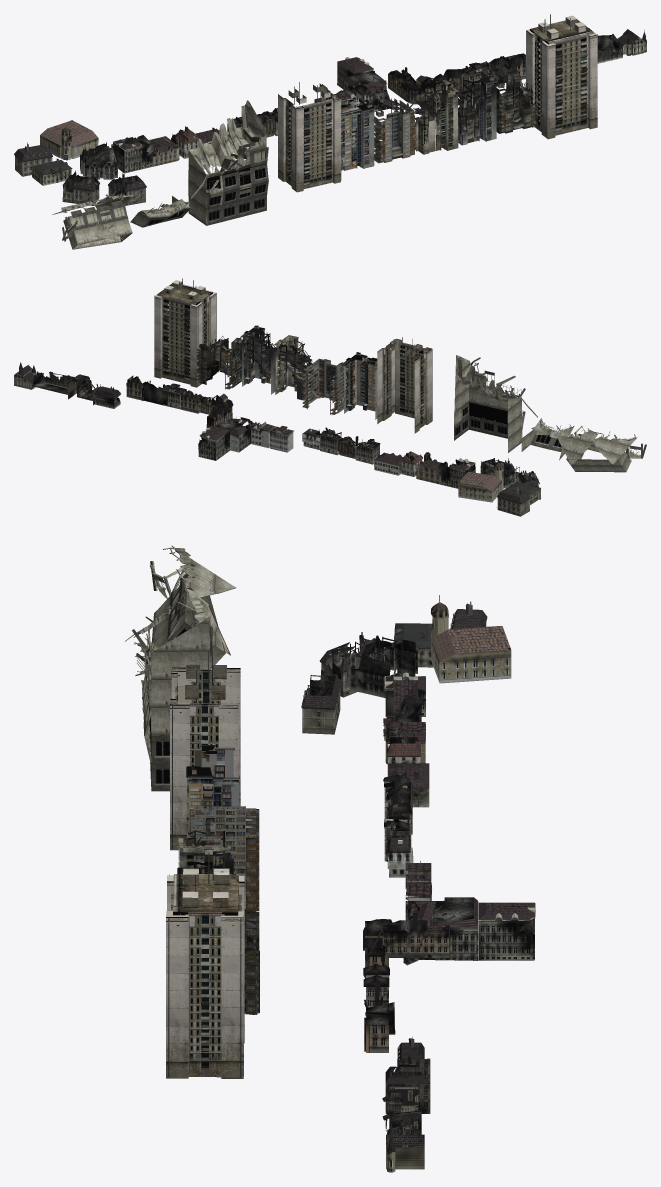
The model's file is half_life_2_buildings__props_buildings.glb.
The picture shows the model from 3 angles, top to bottom: view 1: azimuth 30°, elevation 25°; view 2: azimuth 150°, elevation 25°; view 3: azimuth 270°, elevation 25°; orthographic projection. The views are drawn at different scales.
Visible parts, largest first — view 1: Body_building_002a_reference.smd_0, Body_CollapsedBuilding02b_reference.smd.001_3, Body_destroyed_cityblock01e_reference.smd_8, Body_buildingskybox_002a_reference.smd_1, Body_CollapsedBuilding02c_reference.smd.001_4, Body_destroyed_cityblock01b_reference.smd_6, Body_project_destroyedbuildings04_reference.smd_15, Body_destroyed_cityblock01h_reference.smd_10, Body_project_destroyedbuildings01_reference.smd.001_13, Body_project_building01_reference.smd.001_11, Body_destroyed_cityblock01d_reference.smd_7, Body_project_building03_reference.smd.001_12 (+4 smaller); view 2: Body_building_002a_reference.smd_0, Body_CollapsedBuilding02b_reference.smd.001_3, Body_buildingskybox_002a_reference.smd_1, Body_destroyed_cityblock01e_reference.smd_8, Body_destroyed_cityblock01d_reference.smd_7, Body_CollapsedBuilding02c_reference.smd.001_4, Body_destroyed_cityblock01b_reference.smd_6, Body_destroyed_cityblock01h_reference.smd_10, Body_destroyed_cityblock01a_reference.smd_5, Body_project_building01_reference.smd.001_11, Body_project_destroyedbuildings03_reference.smd_14, Body_project_destroyedbuildings01_reference.smd.001_13 (+4 smaller); view 3: Body_building_002a_reference.smd_0, Body_destroyed_cityblock01e_reference.smd_8, Body_buildingskybox_002a_reference.smd_1, Body_destroyed_cityblock01d_reference.smd_7, Body_destroyed_cityblock01b_reference.smd_6, Body_CollapsedBuilding02b_reference.smd.001_3, Body_destroyed_cityblock01a_reference.smd_5, Body_CollapsedBuilding02c_reference.smd.001_4, Body_destroyed_cityblock01h_reference.smd_10, Body_project_building03_reference.smd.001_12, Body_project_building01_reference.smd.001_11, Body_destroyed_cityblock01g_reference.smd_9 (+2 smaller).
Part boxes in pixels (x1,y1,x2,y2): Body_building_002a_reference.smd_0: (526,14,597,139); Body_CollapsedBuilding02b_reference.smd.001_3: (188,100,268,225); Body_destroyed_cityblock01e_reference.smd_8: (14,120,146,205); Body_buildingskybox_002a_reference.smd_1: (278,82,341,192); Body_CollapsedBuilding02c_reference.smd.001_4: (52,190,139,249); Body_destroyed_cityblock01b_reference.smd_6: (388,53,525,104); Body_project_destroyedbuildings04_reference.smd_15: (405,79,458,154); Body_destroyed_cityblock01h_reference.smd_10: (113,126,228,173); Body_project_destroyedbuildings01_reference.smd.001_13: (448,70,497,145); Body_project_building01_reference.smd.001_11: (341,97,375,170); Body_destroyed_cityblock01d_reference.smd_7: (314,57,394,115); Body_project_building03_reference.smd.001_12: (374,98,414,163); Body_building_002a_reference.smd_0: (154,278,216,387); Body_CollapsedBuilding02b_reference.smd.001_3: (454,355,537,452); Body_buildingskybox_002a_reference.smd_1: (377,337,432,433); Body_destroyed_cityblock01e_reference.smd_8: (458,458,540,516); Body_destroyed_cityblock01d_reference.smd_7: (198,417,293,460); Body_CollapsedBuilding02c_reference.smd.001_4: (555,426,646,472); Body_destroyed_cityblock01b_reference.smd_6: (126,375,233,427); Body_destroyed_cityblock01h_reference.smd_10: (374,451,475,488); Body_destroyed_cityblock01a_reference.smd_5: (14,362,120,408); Body_project_building01_reference.smd.001_11: (342,352,377,419); Body_project_destroyedbuildings03_reference.smd_14: (196,336,242,389); Body_project_destroyedbuildings01_reference.smd.001_13: (240,325,275,394); Body_building_002a_reference.smd_0: (166,852,244,1078); Body_destroyed_cityblock01e_reference.smd_8: (301,595,511,734); Body_buildingskybox_002a_reference.smd_1: (170,650,240,850); Body_destroyed_cityblock01d_reference.smd_7: (403,861,535,965); Body_destroyed_cityblock01b_reference.smd_6: (363,913,449,1052); Body_CollapsedBuilding02b_reference.smd.001_3: (132,616,213,791); Body_destroyed_cityblock01a_reference.smd_5: (382,1036,430,1172); Body_CollapsedBuilding02c_reference.smd.001_4: (125,545,236,669); Body_destroyed_cityblock01h_reference.smd_10: (383,672,429,807); Body_project_building03_reference.smd.001_12: (189,799,259,910); Body_project_building01_reference.smd.001_11: (186,745,239,836); Body_destroyed_cityblock01g_reference.smd_9: (383,772,413,877).
Bounding box in the file's own units: 25.53 × 4.42 × 8.
Materials: 13 (13 with a texture image).
